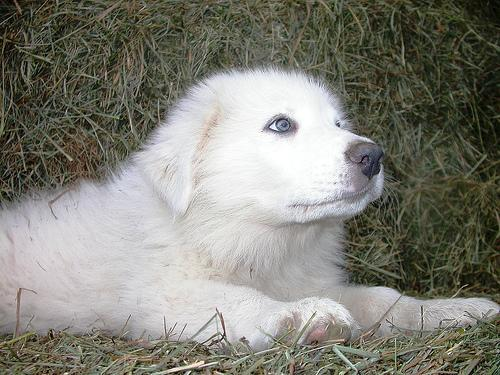Great_Pyrenees: (0, 67, 499, 346)
